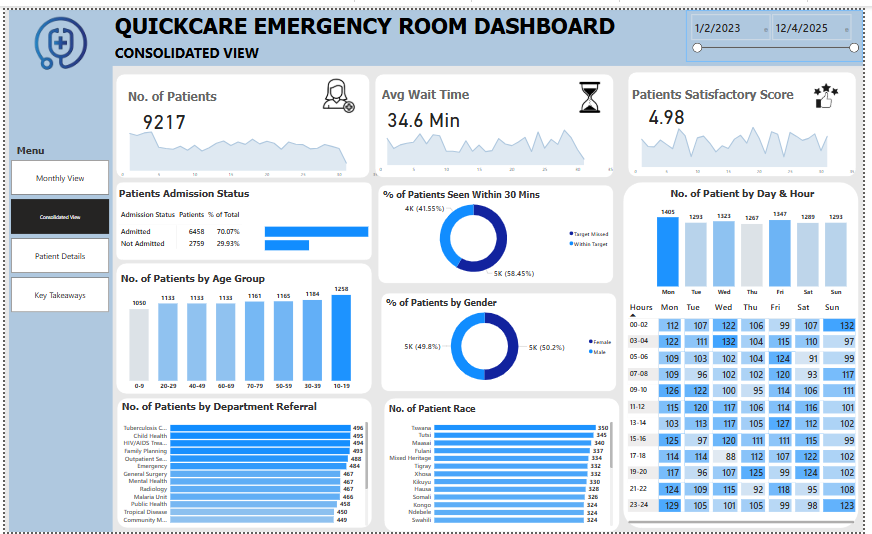

This screenshot's page, from the dashboard's own definition file:
{"tool":"powerbi","page":{"name":"Consolidated View","canvas":[2300,1400],"ordinal":1},"visuals":[{"type":"shape","box":[10.9,0,278,1400.7],"z":0},{"type":"shape","box":[276.2,0,2024.9,150.2],"z":1000},{"type":"textbox","box":[288.9,0,1466.1,84.5],"z":2000},{"type":"shape","box":[297,460.5,686.7,209.8],"z":2500,"group":"g4"},{"type":"shape","box":[1000.2,468.7,632.2,264.3],"z":2500,"group":"g11"},{"type":"shape","box":[297,678.6,686.7,351.5],"z":2500,"group":"g6"},{"type":"shape","box":[1008.3,760.3,632.2,264.3],"z":2500,"group":"g12"},{"type":"shape","box":[299.8,1041,684,348.8],"z":2500,"group":"g5"},{"type":"shape","box":[1016.5,1041,632.2,359.7],"z":2500,"group":"g13"},{"type":"textbox","box":[288.9,84.5,408.8,65.4],"z":3000},{"type":"group","id":"g1","title":"Group 1","box":[236.6,146.4,771.7,311.5],"z":4000},{"type":"shape","box":[1672,166.2,612.2,280.7],"z":4000,"group":"g3"},{"type":"shape","box":[297.1,171.5,680.6,279.1],"z":4000,"group":"g1"},{"type":"shape","box":[992.7,171.7,640.4,278],"z":4000,"group":"g2"},{"type":"shape","box":[1656.9,460.5,632.2,929.3],"z":4000,"group":"g10"},{"type":"card","fields":{"Values":["african_patient_dataa.No of Patients"]},"box":[236.6,146.4,381.5,288.9],"z":5000,"group":"g1"},{"type":"card","fields":{"Values":["african_patient_dataa.Satisfactory Score"]},"box":[1666.2,157.3,218,245.3],"z":5000,"group":"g3"},{"type":"group","id":"g2","title":"Group 1","box":[985.6,171.7,655.2,278],"z":5000},{"type":"card","fields":{"Values":["african_patient_dataa.Avg Wait Time"]},"box":[985.6,176.2,278,223.5],"z":5000,"group":"g2"},{"type":"group","id":"g3","title":"Group 1","box":[1666.2,157.3,621.2,292.1],"z":6000},{"type":"group","id":"g4","title":"Group 1","box":[297,460.5,686.7,209.8],"z":7000},{"type":"textbox","box":[1677.4,199.7,577.6,84.5],"z":8000,"group":"g3"},{"type":"textbox","box":[1007.9,201.2,378.8,89.9],"z":8000,"group":"g2"},{"type":"textbox","box":[324.2,204.1,361.4,84],"z":8000,"group":"g1"},{"type":"textbox","box":[25.9,355,267.1,68.1],"z":8000,"group":"g14"},{"type":"textbox","box":[1671.4,469.4,613.2,84.5],"z":8000,"group":"g10"},{"type":"textbox","box":[299.8,469.8,553.4,63.2],"z":8000,"group":"g4"},{"type":"textbox","box":[1007.9,474.9,588.2,79],"z":8000,"group":"g11"},{"type":"pivotTable","fields":{"Rows":["african_patient_dataa.Admission Status"],"Values":["african_patient_dataa.No of Patients1","african_patient_dataa.No of Patients"]},"box":[299.8,528.7,613.2,141.7],"z":8000},{"type":"textbox","box":[305.3,696.5,551,84.5],"z":8000,"group":"g6"},{"type":"textbox","box":[1016,766.5,588.2,79],"z":8000,"group":"g12"},{"type":"textbox","box":[307.9,1041.3,648.3,103.6],"z":8000,"group":"g5"},{"type":"textbox","box":[1024.2,1049.5,588.2,107.5],"z":8000,"group":"g13"},{"type":"areaChart","fields":{"Category":["Date Table.Date.Variation.Date Hierarchy.Day"],"Y":["Avg(african_patient_dataa.Patient Wait Time)"]},"box":[994.9,270.7,645.9,174.4],"z":9000,"group":"g2"},{"type":"areaChart","fields":{"Category":["Date Table.Date.Variation.Date Hierarchy.Day"],"Y":["african_patient_dataa.Satisfactory Score"]},"box":[1676.9,299.5,610.4,149.9],"z":9000,"group":"g3"},{"type":"areaChart","fields":{"Y":["african_patient_dataa.No of Patients"],"Category":["Date Table.Date.Variation.Date Hierarchy.Day"]},"box":[300.8,308.8,707.6,149],"z":9000,"group":"g1"},{"type":"barChart","fields":{"Category":["african_patient_dataa.Admission Status"],"Y":["african_patient_dataa.No of Patients"]},"box":[692.2,550.5,310.7,119.9],"z":9000},{"type":"group","id":"g5","title":"Group 1","box":[299.8,1041,684,348.8],"z":10000},{"type":"group","id":"g6","title":"Group 1","box":[297,678.6,686.7,351.5],"z":11000},{"type":"clusteredColumnChart","fields":{"Category":["african_patient_dataa.Age Group"],"Y":["african_patient_dataa.No of Patients"]},"box":[297,722.2,667.7,307.9],"z":12000},{"type":"clusteredBarChart","fields":{"Category":["african_patient_dataa.Department Referral"],"Y":["african_patient_dataa.No of Patients"]},"box":[299.8,1092,678.6,297],"z":13000},{"type":"group","id":"g7","title":"Group 2","box":[994.7,468.7,637.7,264.3],"z":14000},{"type":"group","id":"g8","title":"Group 2","box":[1002.8,760.3,637.7,264.3],"z":15000},{"type":"group","id":"g9","title":"Group 2","box":[1016.5,1041,632.2,359.7],"z":16000},{"type":"barChart","fields":{"Y":["african_patient_dataa.No of Patients"],"Category":["african_patient_dataa.Patient Race"]},"box":[1024.5,1091.6,611.5,297.7],"z":17000},{"type":"group","id":"g10","title":"Group 1","box":[1656.9,460.5,638,929.3],"z":18000},{"type":"group","id":"g11","title":"Group 1","box":[1000.2,468.7,632.2,264.3],"z":18000,"group":"g7"},{"type":"group","id":"g12","title":"Group 1","box":[1008.3,760.3,632.2,264.3],"z":18000,"group":"g8"},{"type":"group","id":"g13","title":"Group 1","box":[1016.5,1041,632.2,359.7],"z":18000,"group":"g9"},{"type":"image","box":[24.1,0,252.1,206.5],"z":19000},{"type":"donutChart","fields":{"Category":["african_patient_dataa.Waittime"],"Y":["african_patient_dataa.No of Patients"]},"box":[994.7,490.5,637.7,242.5],"z":19000,"group":"g7"},{"type":"donutChart","fields":{"Category":["african_patient_dataa.Patient Gender"],"Y":["african_patient_dataa.No of Patients"]},"box":[1002.8,782.1,637.7,242.5],"z":19000,"group":"g8"},{"type":"slicer","fields":{"Values":["Date Table.Date"]},"box":[1825.8,0,474.2,139],"z":20000},{"type":"image","box":[771.2,171.7,245.3,117.2],"z":21000},{"type":"image","box":[1455.2,188,223.5,92.7],"z":22000},{"type":"columnChart","fields":{"Y":["african_patient_dataa.No of Patients"],"Category":["Date Table.Day Name"]},"box":[1714.5,505.3,580.5,269.8],"z":22001,"group":"g10"},{"type":"image","box":[2101.5,171.6,198.5,115.3],"z":23000},{"type":"pivotTable","fields":{"Rows":["african_patient_dataa.Waittime Interval"],"Columns":["Date Table.Day Name"],"Values":["african_patient_dataa.No of Patients"]},"box":[1665.8,774.5,619.8,608.4],"z":23002,"group":"g10"},{"type":"group","id":"g14","title":"Group 1","box":[25.9,355,268.2,67],"z":24000},{"type":"pageNavigator","box":[15,402,263,411],"z":25000}]}

Visuals, with their boxes in screenshot pixels (x1, y1, x2, y2), scaled from the page's 2300x1400 canvas onto the 872x534 screenshot:
shape: l=4, t=0, r=110, b=533
shape: l=105, t=0, r=871, b=57
textbox: l=110, t=0, r=665, b=32
shape: l=113, t=176, r=373, b=256
shape: l=379, t=179, r=619, b=280
shape: l=113, t=259, r=373, b=393
shape: l=382, t=290, r=622, b=391
shape: l=114, t=397, r=373, b=530
shape: l=385, t=397, r=625, b=533
textbox: l=110, t=32, r=265, b=57
"Group 1" group: l=90, t=56, r=382, b=175
shape: l=634, t=63, r=866, b=170
shape: l=113, t=65, r=371, b=172
shape: l=376, t=65, r=619, b=172
shape: l=628, t=176, r=868, b=530
card - african_patient_dataa.No of Patients: l=90, t=56, r=234, b=166
card - african_patient_dataa.Satisfactory Score: l=632, t=60, r=714, b=154
"Group 1" group: l=374, t=65, r=622, b=172
card - african_patient_dataa.Avg Wait Time: l=374, t=67, r=479, b=152
"Group 1" group: l=632, t=60, r=867, b=171
"Group 1" group: l=113, t=176, r=373, b=256
textbox: l=636, t=76, r=855, b=108
textbox: l=382, t=77, r=526, b=111
textbox: l=123, t=78, r=260, b=110
textbox: l=10, t=135, r=111, b=161
textbox: l=634, t=179, r=866, b=211
textbox: l=114, t=179, r=323, b=203
textbox: l=382, t=181, r=605, b=211
pivotTable - african_patient_dataa.Admission Status x african_patient_dataa.No of Patients1: l=114, t=202, r=346, b=256
textbox: l=116, t=266, r=325, b=298
textbox: l=385, t=292, r=608, b=322
textbox: l=117, t=397, r=363, b=437
textbox: l=388, t=400, r=611, b=441
areaChart - Date Table.Date.Variation.Date Hierarchy.Day x Avg(african_patient_dataa.Patient Wait Time): l=377, t=103, r=622, b=170
areaChart - Date Table.Date.Variation.Date Hierarchy.Day x african_patient_dataa.Satisfactory Score: l=636, t=114, r=867, b=171
areaChart - african_patient_dataa.No of Patients x Date Table.Date.Variation.Date Hierarchy.Day: l=114, t=118, r=382, b=175
barChart - african_patient_dataa.Admission Status x african_patient_dataa.No of Patients: l=262, t=210, r=380, b=256
"Group 1" group: l=114, t=397, r=373, b=530
"Group 1" group: l=113, t=259, r=373, b=393
clusteredColumnChart - african_patient_dataa.Age Group x african_patient_dataa.No of Patients: l=113, t=275, r=366, b=393
clusteredBarChart - african_patient_dataa.Department Referral x african_patient_dataa.No of Patients: l=114, t=417, r=371, b=530
"Group 2" group: l=377, t=179, r=619, b=280
"Group 2" group: l=380, t=290, r=622, b=391
"Group 2" group: l=385, t=397, r=625, b=533
barChart - african_patient_dataa.No of Patients x african_patient_dataa.Patient Race: l=388, t=416, r=620, b=530
"Group 1" group: l=628, t=176, r=870, b=530
"Group 1" group: l=379, t=179, r=619, b=280
"Group 1" group: l=382, t=290, r=622, b=391
"Group 1" group: l=385, t=397, r=625, b=533
image: l=9, t=0, r=105, b=79
donutChart - african_patient_dataa.Waittime x african_patient_dataa.No of Patients: l=377, t=187, r=619, b=280
donutChart - african_patient_dataa.Patient Gender x african_patient_dataa.No of Patients: l=380, t=298, r=622, b=391
slicer - Date Table.Date: l=692, t=0, r=871, b=53
image: l=292, t=65, r=385, b=110
image: l=552, t=72, r=636, b=107
columnChart - african_patient_dataa.No of Patients x Date Table.Day Name: l=650, t=193, r=870, b=296
image: l=797, t=65, r=871, b=109
pivotTable - african_patient_dataa.Waittime Interval x Date Table.Day Name: l=632, t=295, r=867, b=527
"Group 1" group: l=10, t=135, r=112, b=161
pageNavigator: l=6, t=153, r=105, b=310
